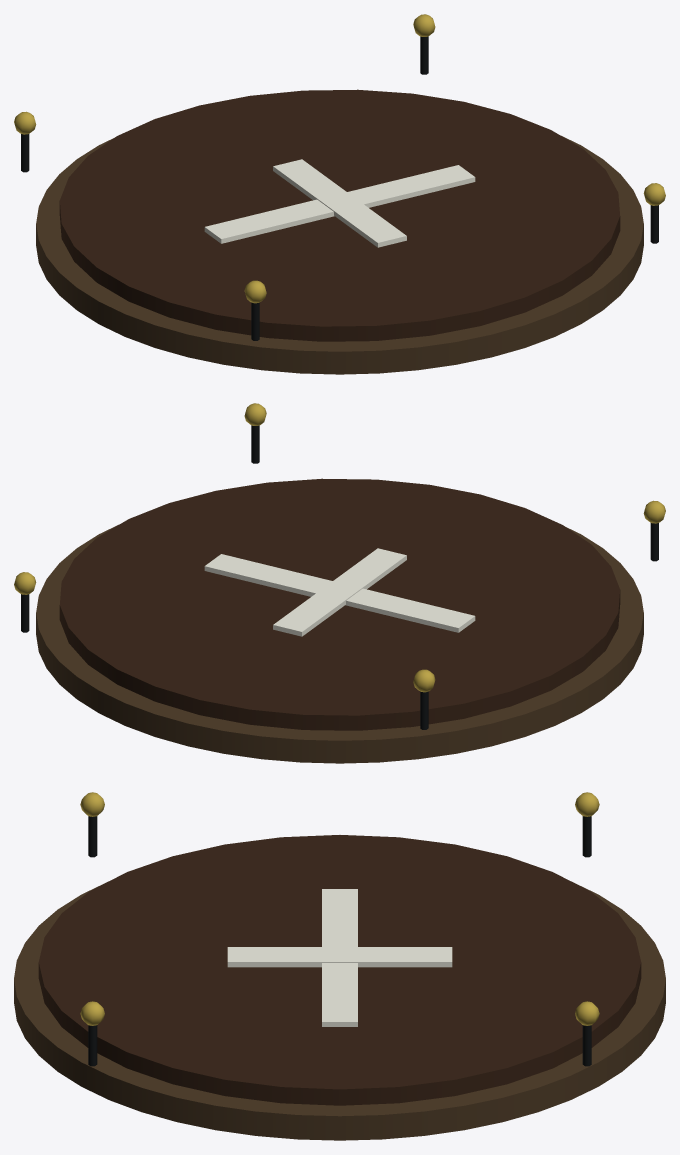
Rendered from firebase-helipad.glb.
3 views of the same model, one above another, from view 1: azimuth 30°, elevation 25°; view 2: azimuth 150°, elevation 25°; view 3: azimuth 270°, elevation 25° (orthographic). The views are drawn at different scales.
Parts seen in each view (by area): view 1: timberDeck, padBase, landingHBarA, landingHBarB; view 2: timberDeck, padBase, landingHBarA, landingHBarB; view 3: timberDeck, padBase, landingHBarB, landingHBarA.
Part boxes in pixels (<box>): timberDeck: <box>59,89,620,341</box>; padBase: <box>36,135,643,374</box>; landingHBarA: <box>204,165,475,243</box>; landingHBarB: <box>273,159,406,247</box>; timberDeck: <box>59,478,620,730</box>; padBase: <box>36,524,643,763</box>; landingHBarA: <box>204,554,475,632</box>; landingHBarB: <box>273,548,406,636</box>; timberDeck: <box>38,835,641,1105</box>; padBase: <box>14,883,665,1140</box>; landingHBarB: <box>227,947,452,967</box>; landingHBarA: <box>322,889,357,1026</box>.
Bounding box in the file's own units: 2.9 × 0.515 × 2.9.
